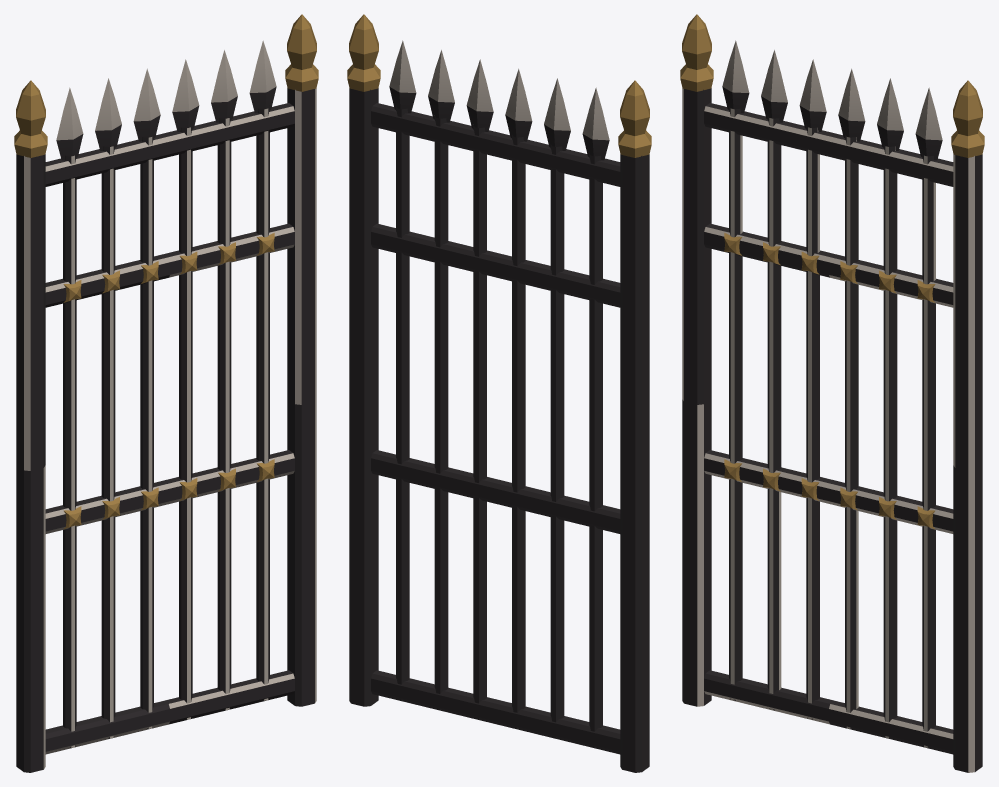
Rendered from grating-0.glb.
3 views of the same model, side by side, from view 1: azimuth 30°, elevation 25°; view 2: azimuth 150°, elevation 25°; view 3: azimuth 330°, elevation 25° (orthographic).
Parts seen in each view (by area): view 1: grating-0; view 2: grating-0; view 3: grating-0.
Part boxes in pixels (x1,y1,x2,y2): grating-0: [14, 14, 318, 772]; grating-0: [347, 14, 651, 772]; grating-0: [680, 14, 984, 772].
Size of the model in its own units: 1.06 by 2.27 by 0.1005.
